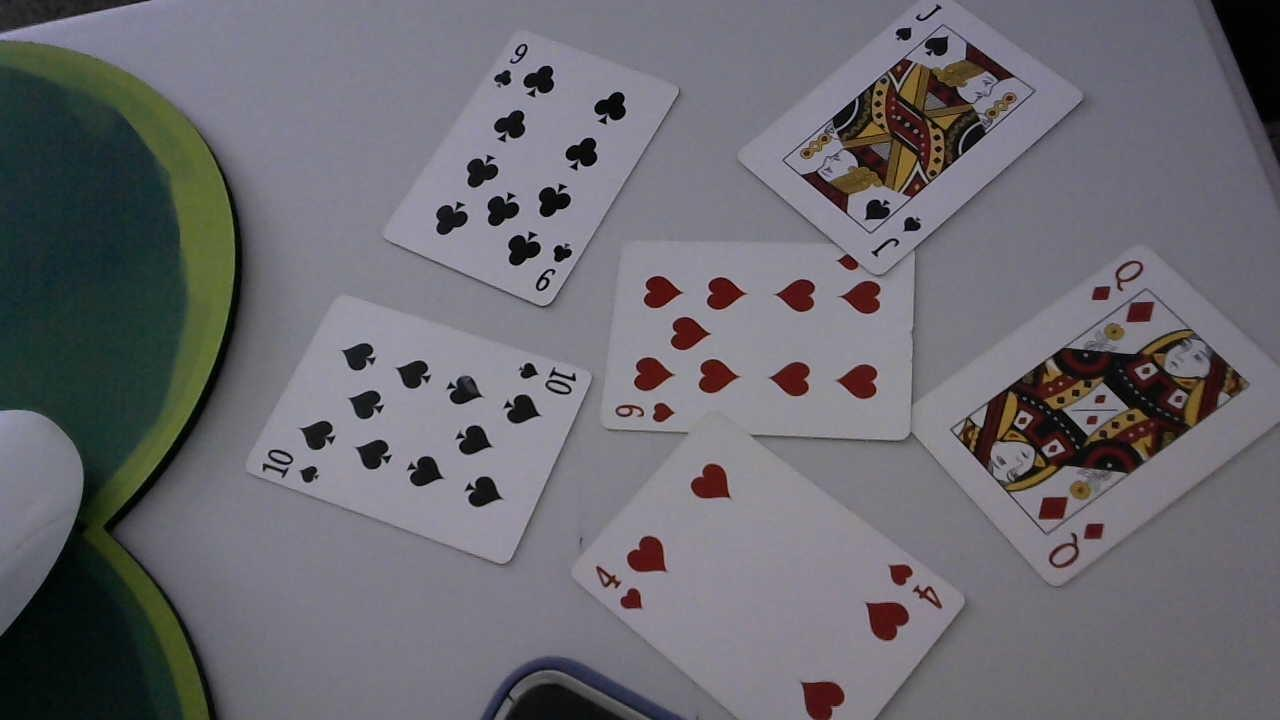10S: (514, 355, 579, 396), (261, 446, 322, 487)
4H: (882, 560, 944, 614), (591, 562, 650, 617)
9C: (530, 238, 576, 295), (489, 39, 530, 91)
9H: (612, 398, 680, 423)
JS: (868, 214, 927, 259), (893, 1, 947, 45)
QD: (1045, 520, 1109, 571), (1087, 253, 1145, 303)
